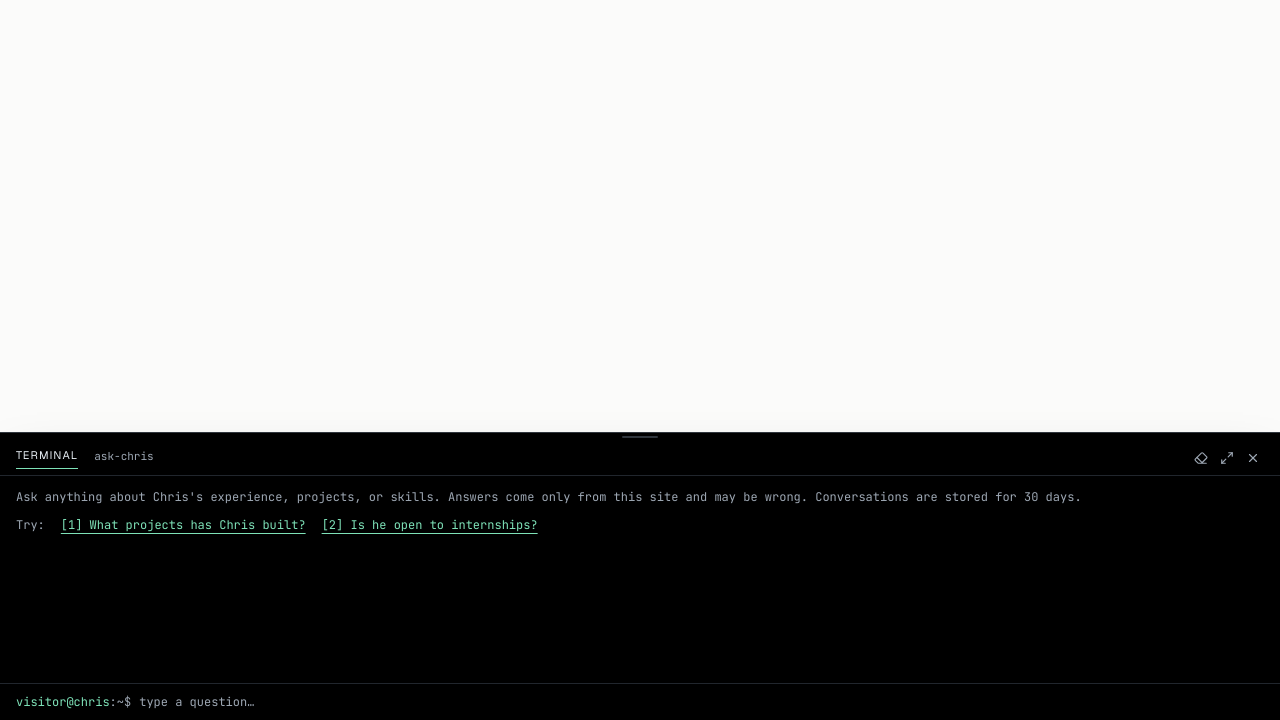
Test: ChatTerminal › resizes from the keyboard, remembers the height, and maximizes
This screenshot has width=1280, height=720.
Press ArrowUp in the element named "Resize terminal", box [622,436,658,438]
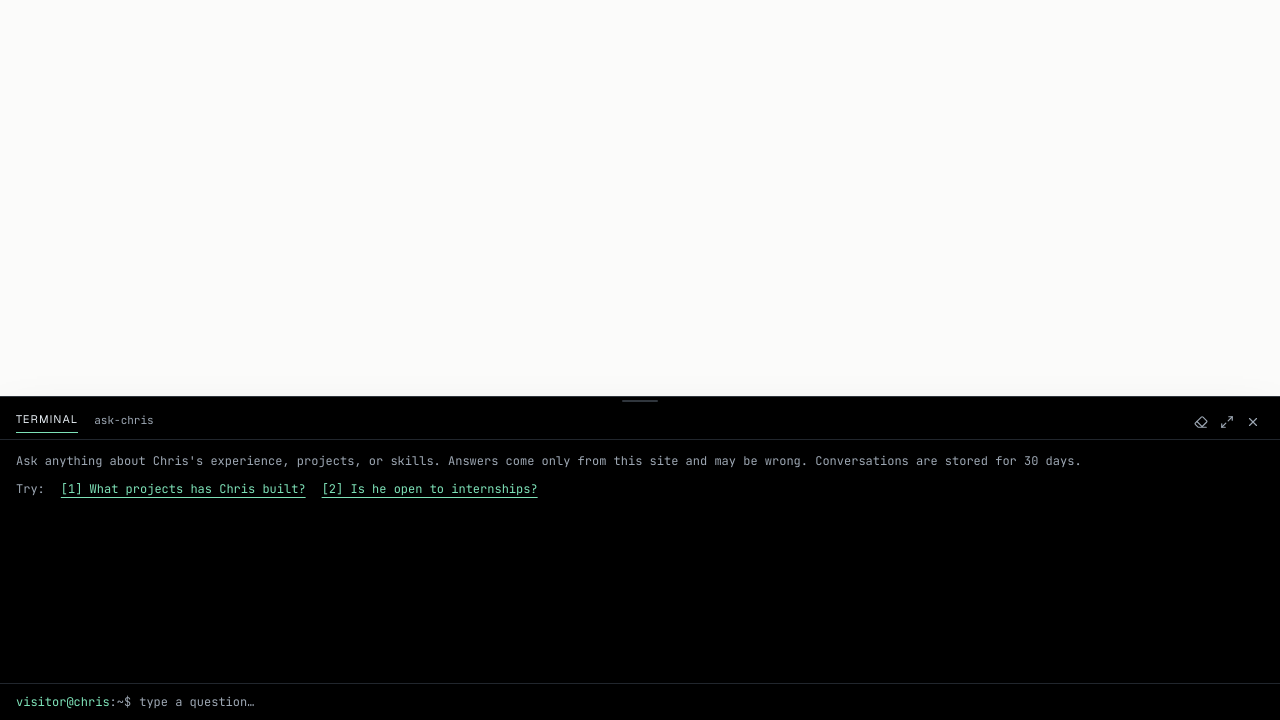
Now the element named "Resize terminal" has attribute aria-valuenow="45", box [622,400,658,402]
Click the button named "Maximize terminal" at (1227, 422), box [1216,411,1238,433]
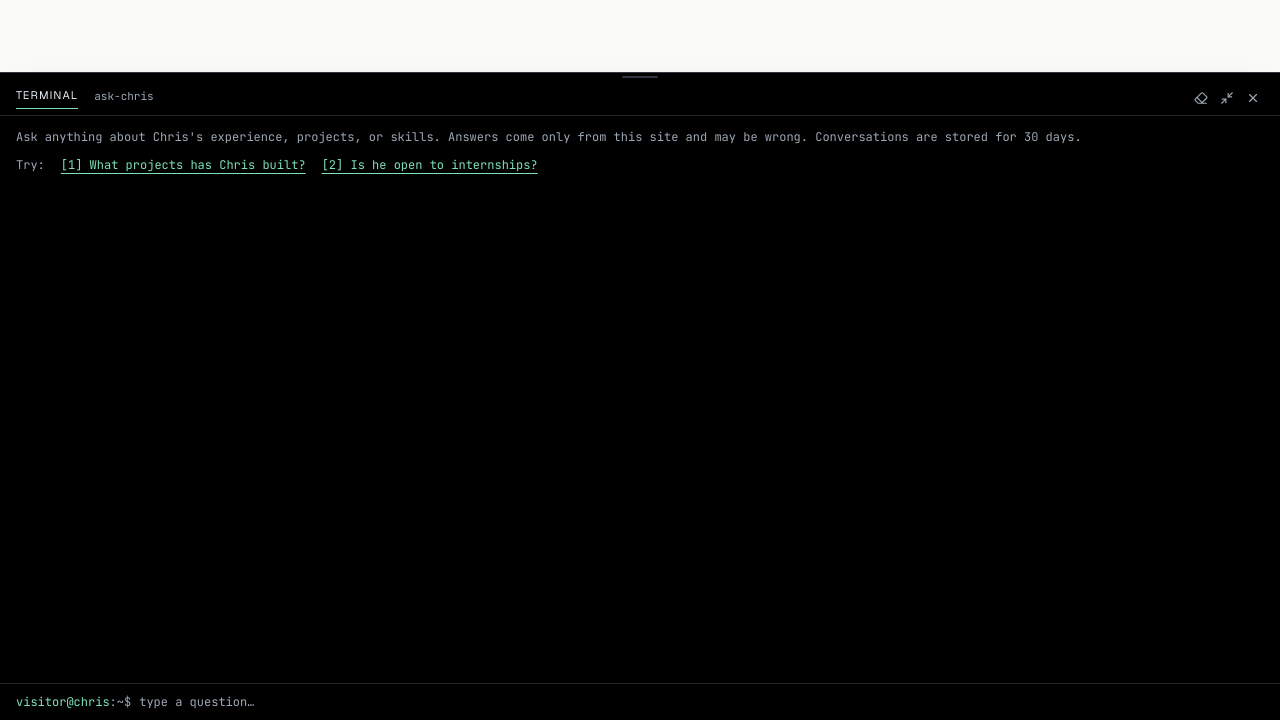
Now the button named "Restore terminal size" is shown, box [1216,87,1238,109]
